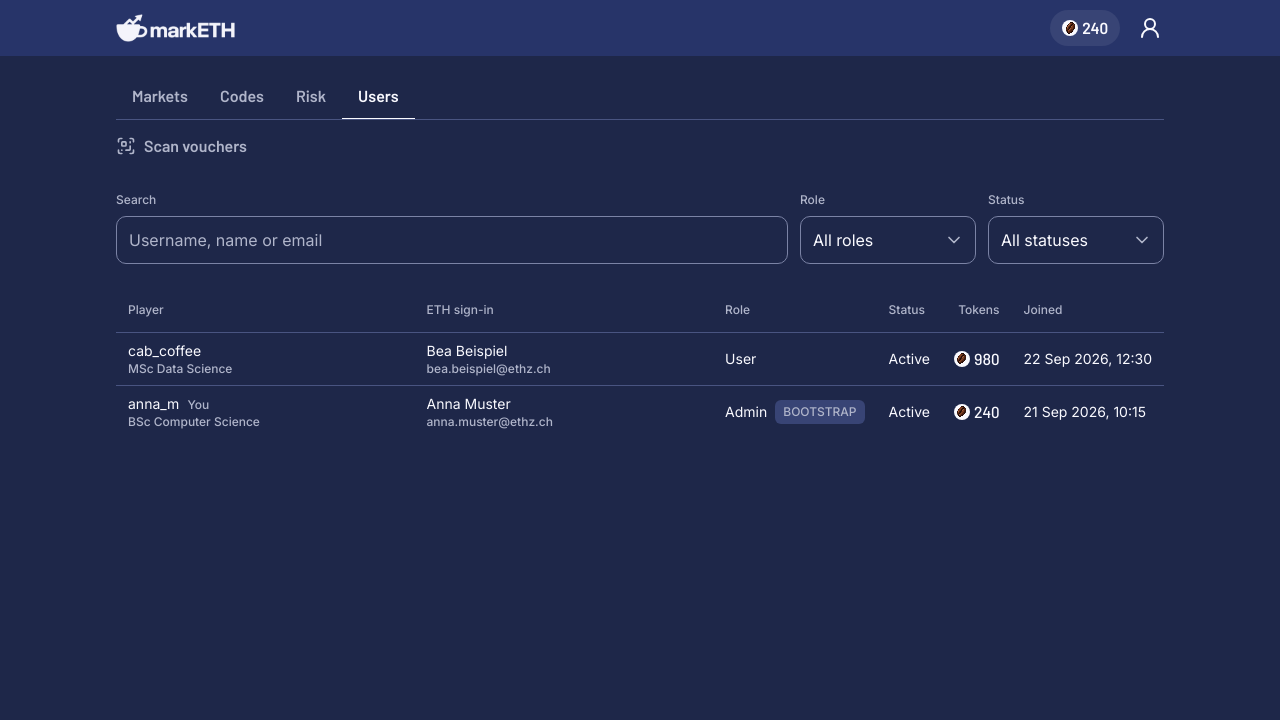
Test: the dialog of a user › the close cross closes it, and the focus goes back to the row
Click the button "cab_coffee MSc Data Science". click: (165, 350)
box: 128,332 -> 402,384
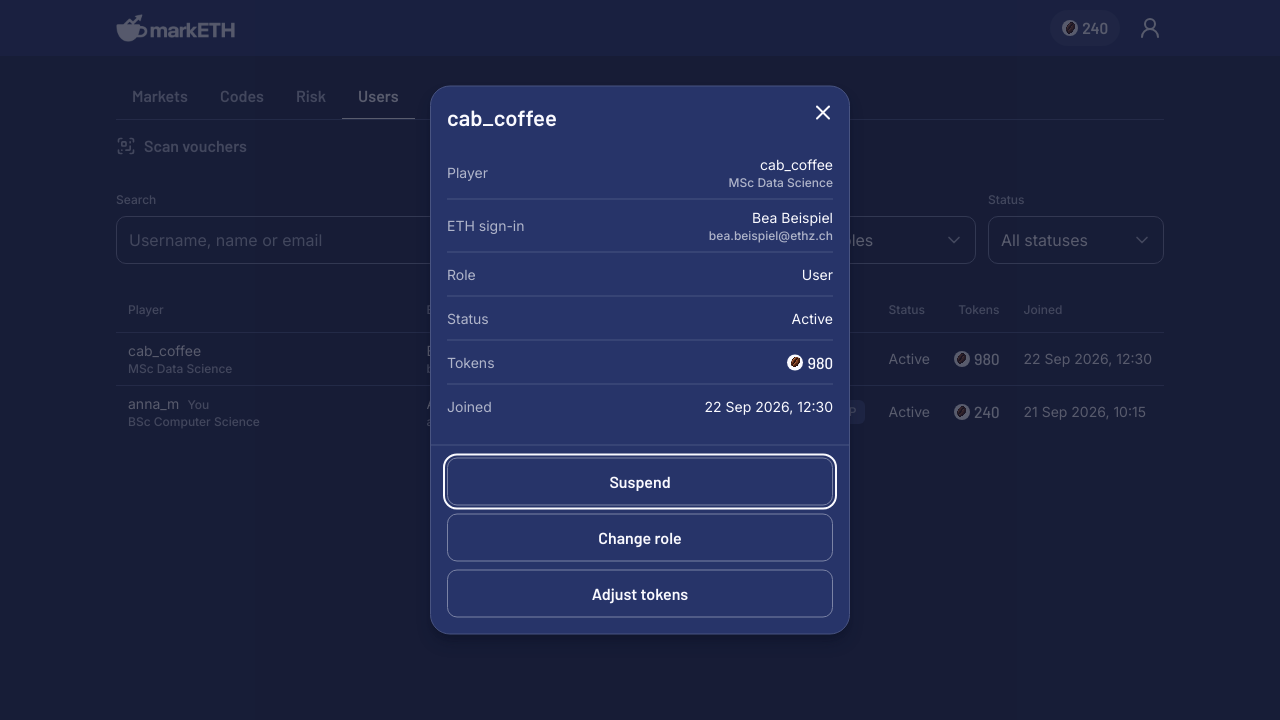
Click the button named "Close". click: (823, 112)
box: 801,90 -> 845,134
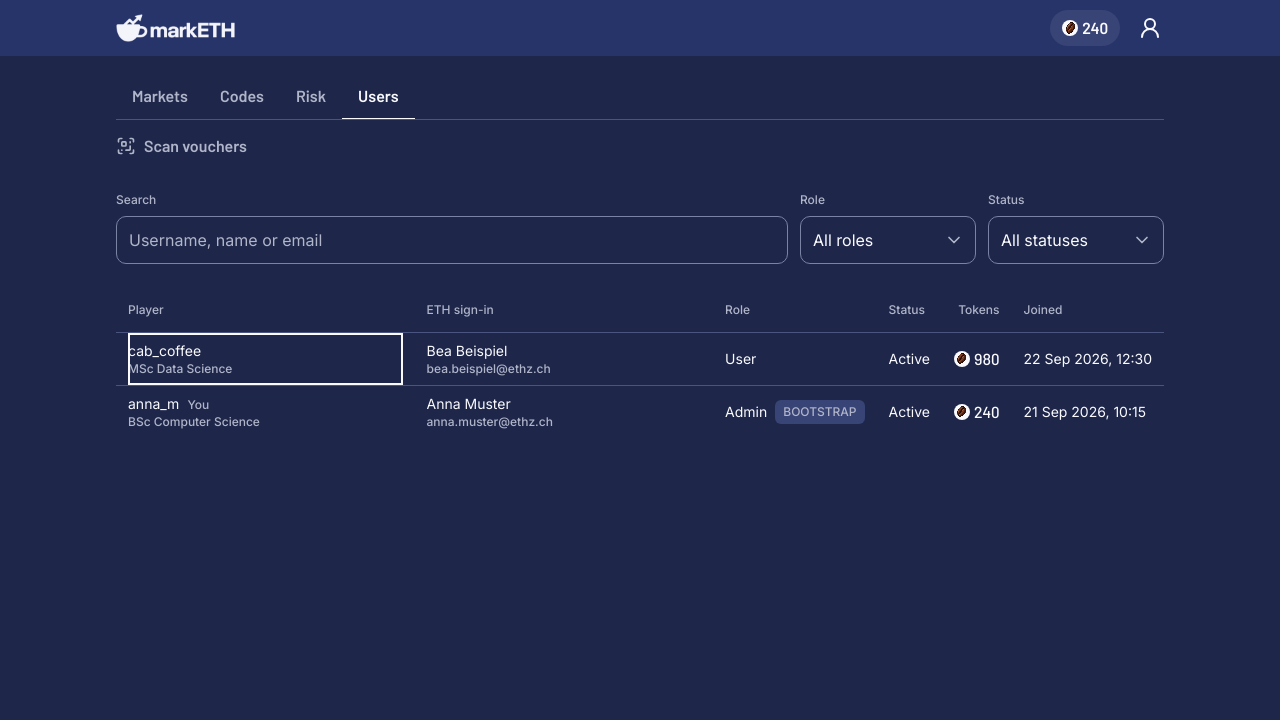
Expected: the dialog is gone
